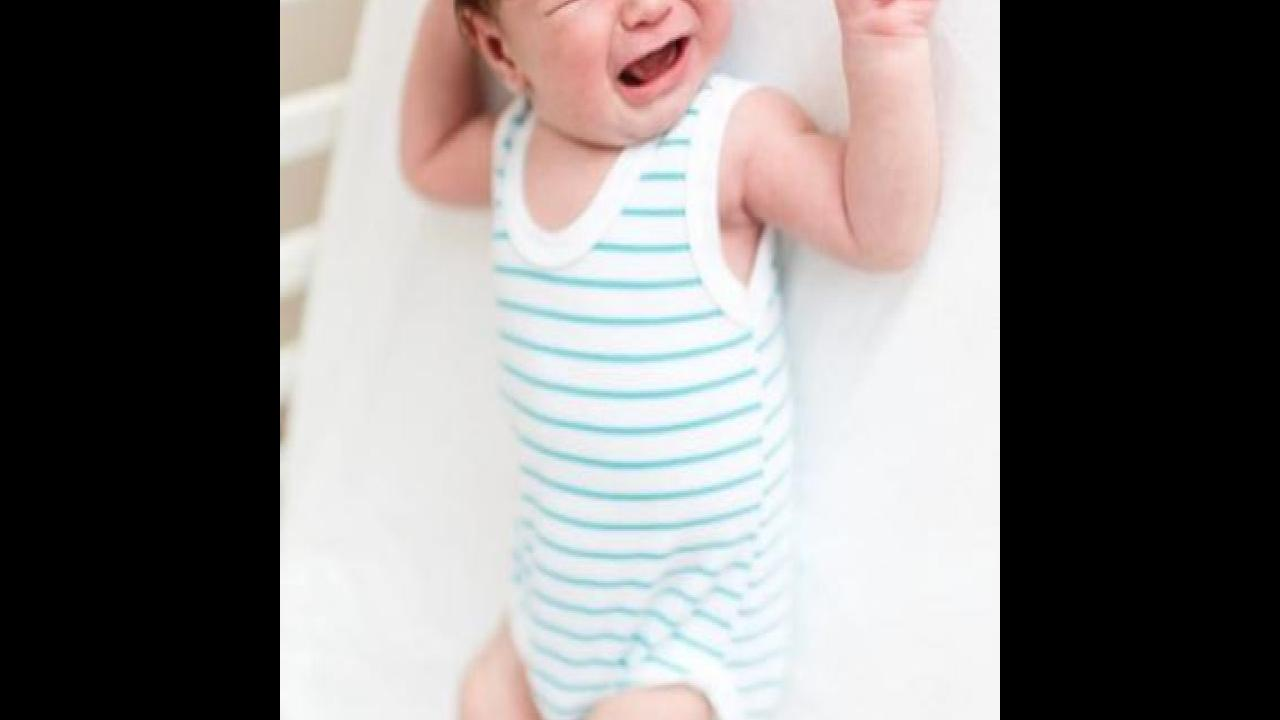hand: (833, 0, 943, 35)
